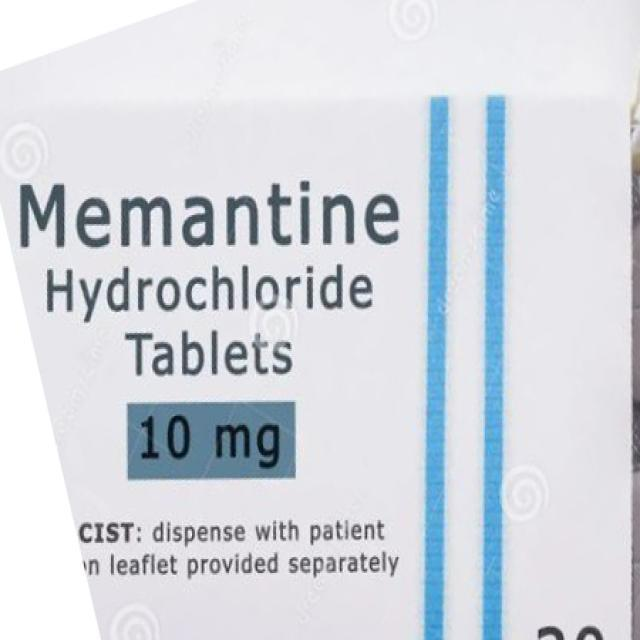drug-name: (17, 171, 413, 312)
